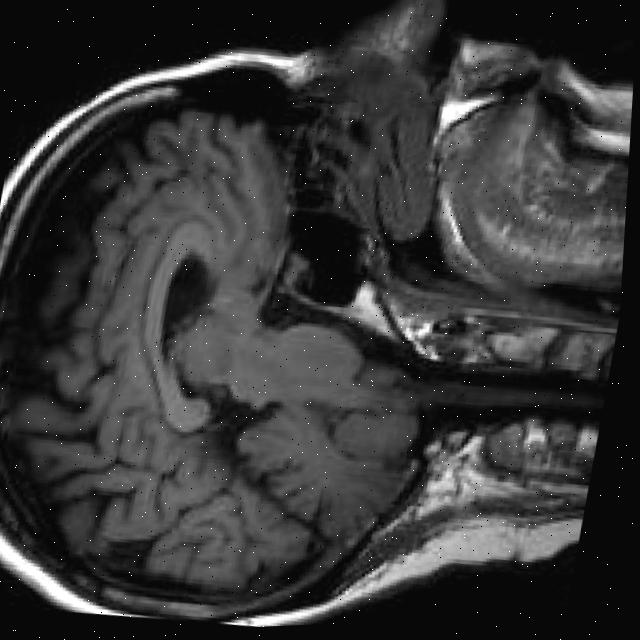NoTumor: (0, 12, 492, 640)
